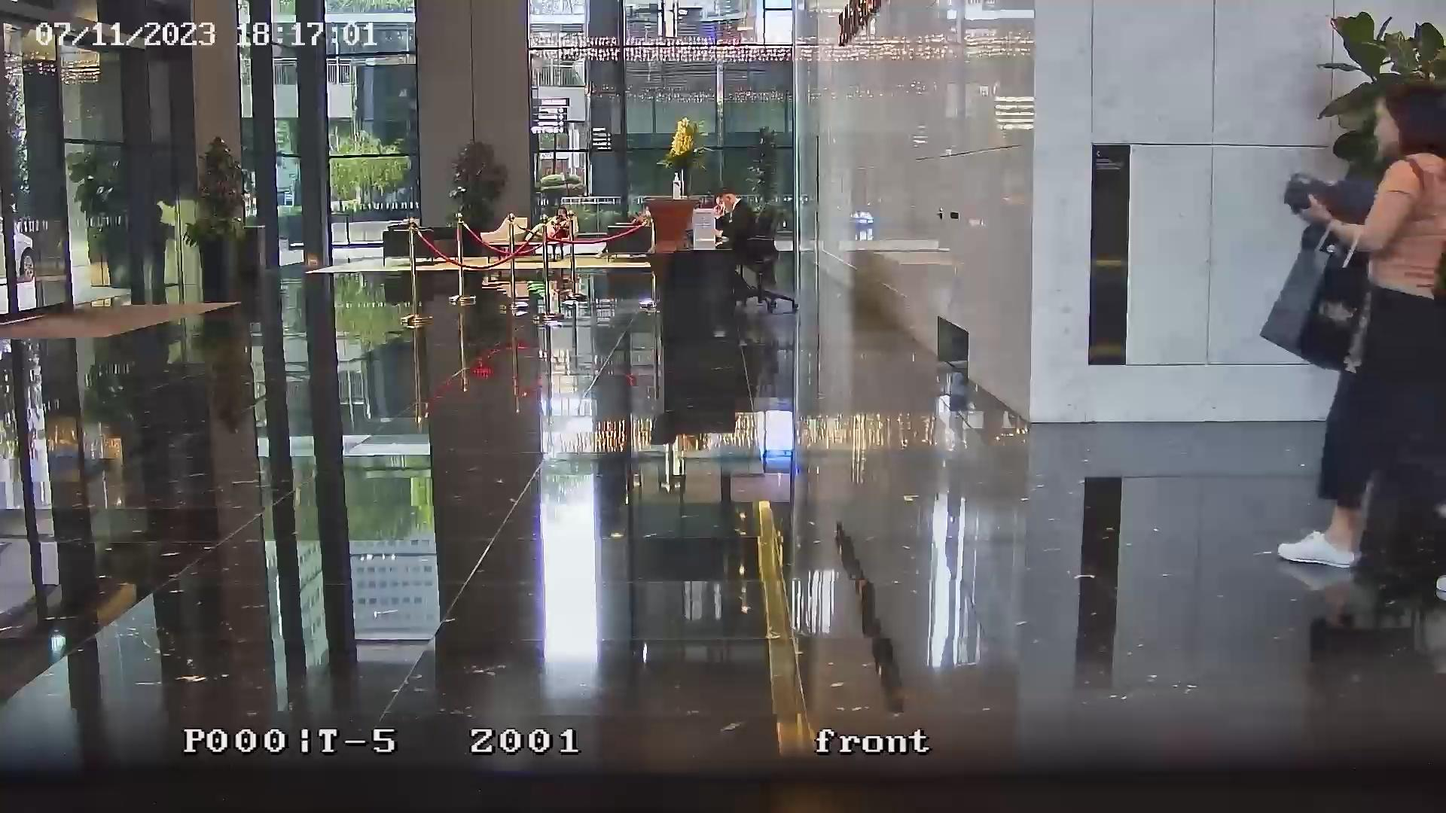person: (1275, 75, 1445, 570), (711, 188, 757, 257), (550, 207, 571, 257)
